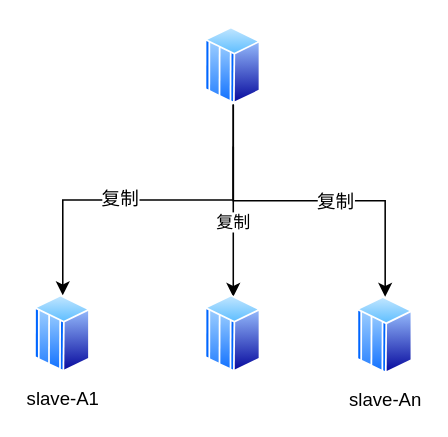
This 448x437 diagram has some shape labels left out. The centre of each missing label's shape, as x and y in pixels:
"master-A" goes at pixel 232 65.
"slave-A2" goes at pixel 232 333.
